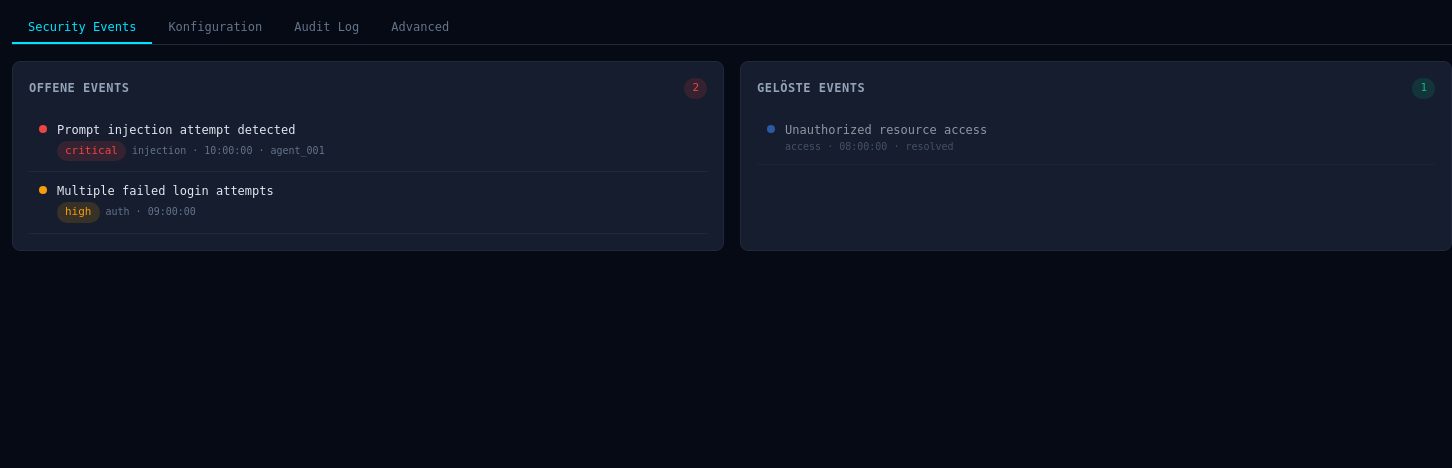
Test: SecurityView › switches to Advanced tab
Click the button "Advanced": {"x": 420, "y": 28} [375, 12, 465, 44]
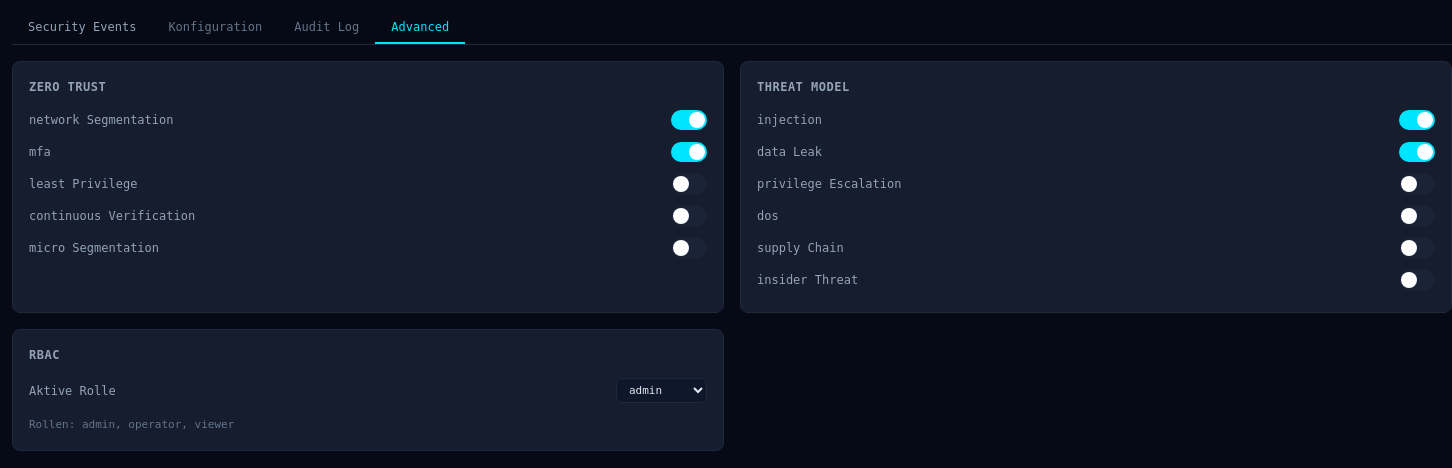
expect the text "Offene Events" is gone: met
